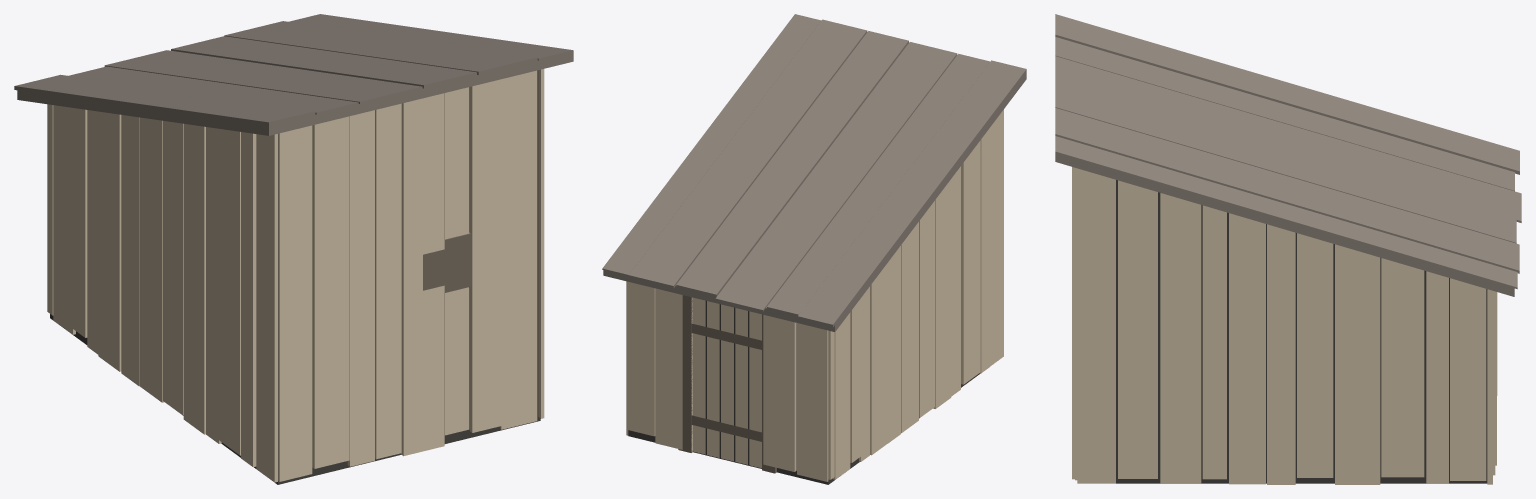
Rendered from recon_1835_west_012__inferred_1835.glb.
The picture shows the model from 3 angles, left to right: view 1: azimuth 30°, elevation 25°; view 2: azimuth 150°, elevation 25°; view 3: azimuth 270°, elevation 25°; orthographic projection. The views are drawn at different scales.
Visible parts, largest first — view 1: recon_1835_west_012__inferred_1835; view 2: recon_1835_west_012__inferred_1835; view 3: recon_1835_west_012__inferred_1835.
Boxes of the visible parts, x1,y1,x2,y2 form: recon_1835_west_012__inferred_1835: (14,14,573,484); recon_1835_west_012__inferred_1835: (602,14,1026,484); recon_1835_west_012__inferred_1835: (1055,14,1521,484).
Size of the model in its own units: 2.82 by 3.34 by 4.11.
